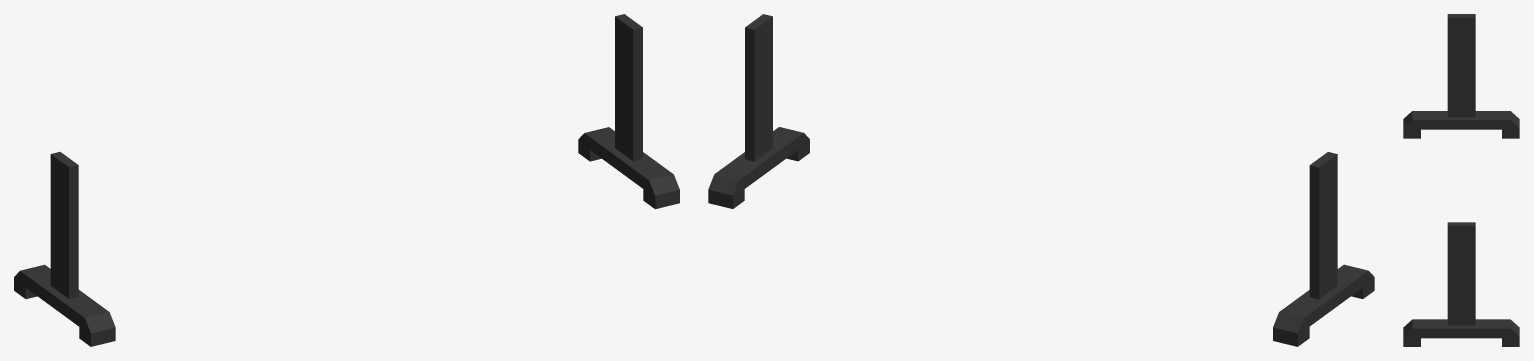
Rendered from Desk_Mechanical_Base.obj.
The picture shows the model from 3 angles, left to right: view 1: azimuth 30°, elevation 25°; view 2: azimuth 150°, elevation 25°; view 3: azimuth 270°, elevation 25°; orthographic projection. The views are drawn at different scales.
Parts seen in each view (by area): view 1: Desk_Mechanical_Base; view 2: Desk_Mechanical_Base; view 3: Desk_Mechanical_Base.
Boxes of the visible parts, x1,y1,x2,y2 form: Desk_Mechanical_Base: [14, 14, 679, 346]; Desk_Mechanical_Base: [708, 14, 1374, 346]; Desk_Mechanical_Base: [1403, 14, 1519, 346].
Size of the model in its own units: 2.31 by 0.5863 by 0.5233.
